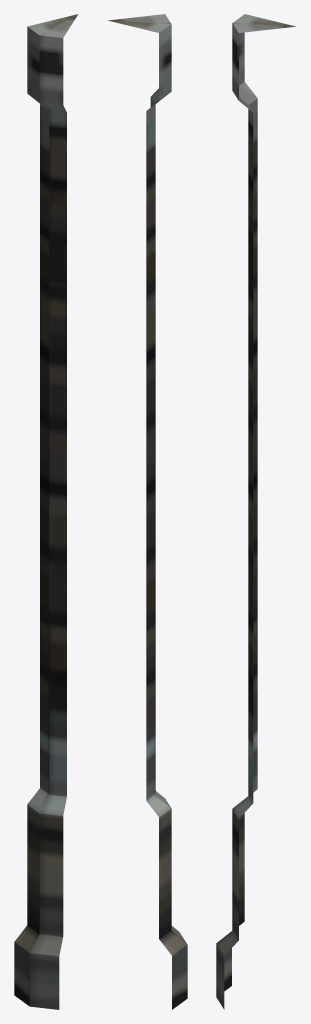
File: EnvBdgMD_Snow_Seidoukikan_A_GrdWall_SL_Junction_Tall_A.FBX
3 views of the same model, side by side, from view 1: azimuth 30°, elevation 25°; view 2: azimuth 150°, elevation 25°; view 3: azimuth 330°, elevation 25° (orthographic).
Visible parts, largest first — view 1: EnvBdgMD_Snow_Seidoukikan_A_GrdWall_SL_Junction_Tall_A; view 2: EnvBdgMD_Snow_Seidoukikan_A_GrdWall_SL_Junction_Tall_A; view 3: EnvBdgMD_Snow_Seidoukikan_A_GrdWall_SL_Junction_Tall_A.
Boxes of the visible parts, x1=… form: EnvBdgMD_Snow_Seidoukikan_A_GrdWall_SL_Junction_Tall_A: x1=14, y1=14, x2=78, y2=1009; EnvBdgMD_Snow_Seidoukikan_A_GrdWall_SL_Junction_Tall_A: x1=108, y1=14, x2=187, y2=1009; EnvBdgMD_Snow_Seidoukikan_A_GrdWall_SL_Junction_Tall_A: x1=216, y1=14, x2=295, y2=1009.
Bounding box in the file's own units: 25 × 360 × 17.68.
Materials: 1 (1 with a texture image).
